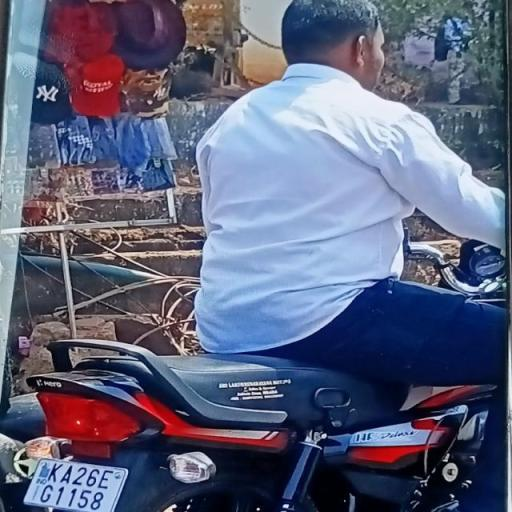bike: (12, 1, 504, 512)
numberplate: (29, 460, 122, 512)
withouthelmet: (284, 0, 378, 72)
